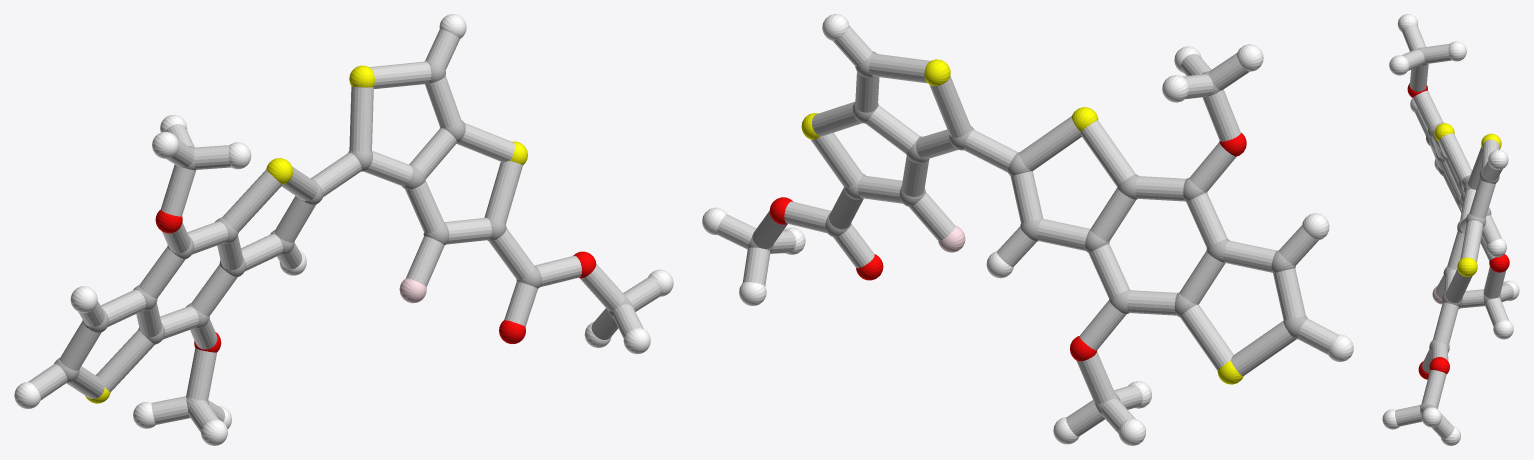
The model's file is color.glb.
3 renders of one model, left to right at view 1: azimuth 30°, elevation 25°; view 2: azimuth 150°, elevation 25°; view 3: azimuth 270°, elevation 25°, orthographic. The views are drawn at different scales.
Parts seen in each view (by area): view 1: grp15205, grp8689, grp1, grp13395, grp7241; view 2: grp15205, grp8689, grp1, grp7241, grp13395; view 3: grp15205, grp8689, grp1, grp13395, grp7241.
Part boxes in pixels (bbox=[...]): grp15205: bbox=[28, 29, 661, 432]; grp8689: bbox=[14, 14, 673, 445]; grp1: bbox=[54, 60, 632, 410]; grp13395: bbox=[155, 210, 596, 352]; grp7241: bbox=[85, 65, 527, 403]; grp15205: bbox=[717, 26, 1337, 436]; grp8689: bbox=[702, 14, 1353, 445]; grp1: bbox=[748, 51, 1308, 413]; grp7241: bbox=[801, 59, 1243, 384]; grp13395: bbox=[769, 132, 1246, 361]; grp15205: bbox=[1395, 24, 1513, 438]; grp8689: bbox=[1382, 14, 1519, 445]; grp1: bbox=[1416, 47, 1500, 410]; grp13395: bbox=[1407, 83, 1509, 379]; grp7241: bbox=[1434, 123, 1501, 276].
Size of the model in its own units: 16.5 by 9.1 by 4.03.
